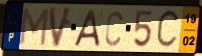5: (133, 10, 154, 49)
A: (72, 9, 101, 48)
C: (154, 8, 181, 52), (104, 10, 124, 48)
M: (18, 7, 50, 48)
V: (47, 5, 74, 49)
